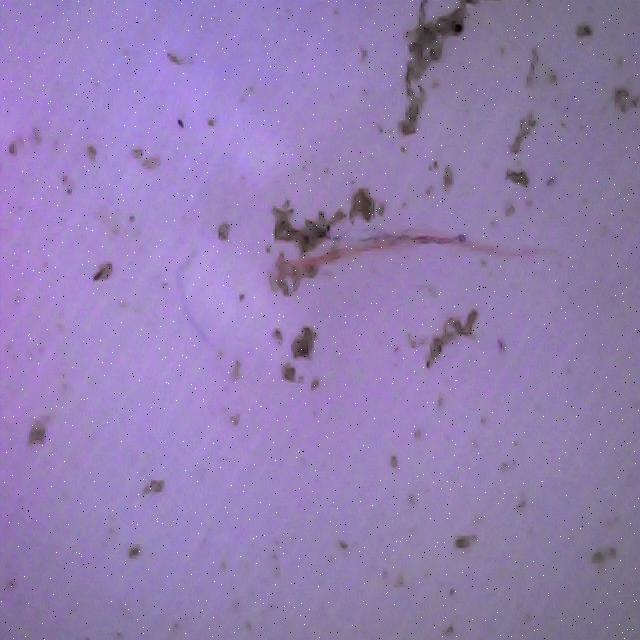fibers: (265, 207, 553, 298)
